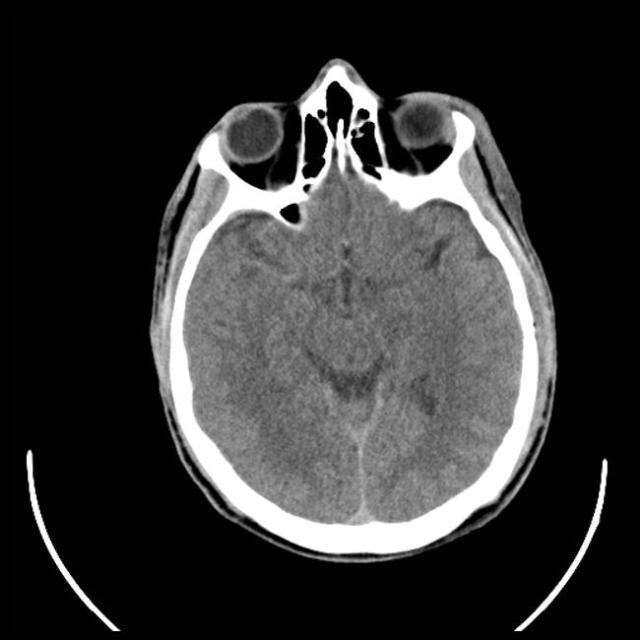lesion: (145, 56, 560, 561)
